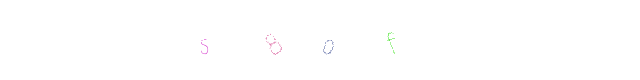8: (280, 0, 360, 80)
F: (351, 0, 431, 80)
O: (288, 0, 368, 80)
S: (217, 0, 297, 80)
